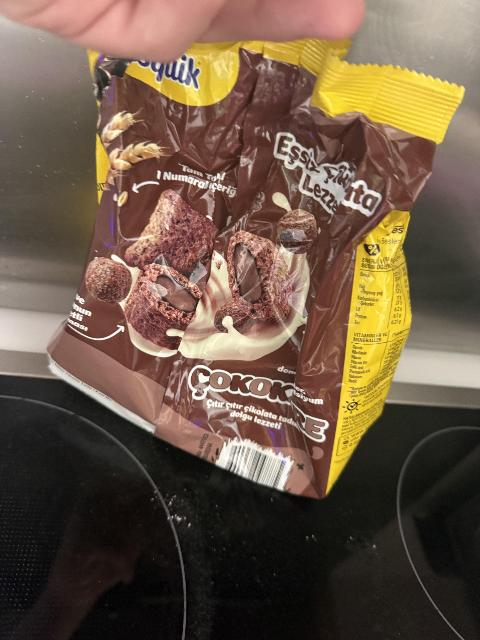Plastik: (71, 45, 457, 487)
